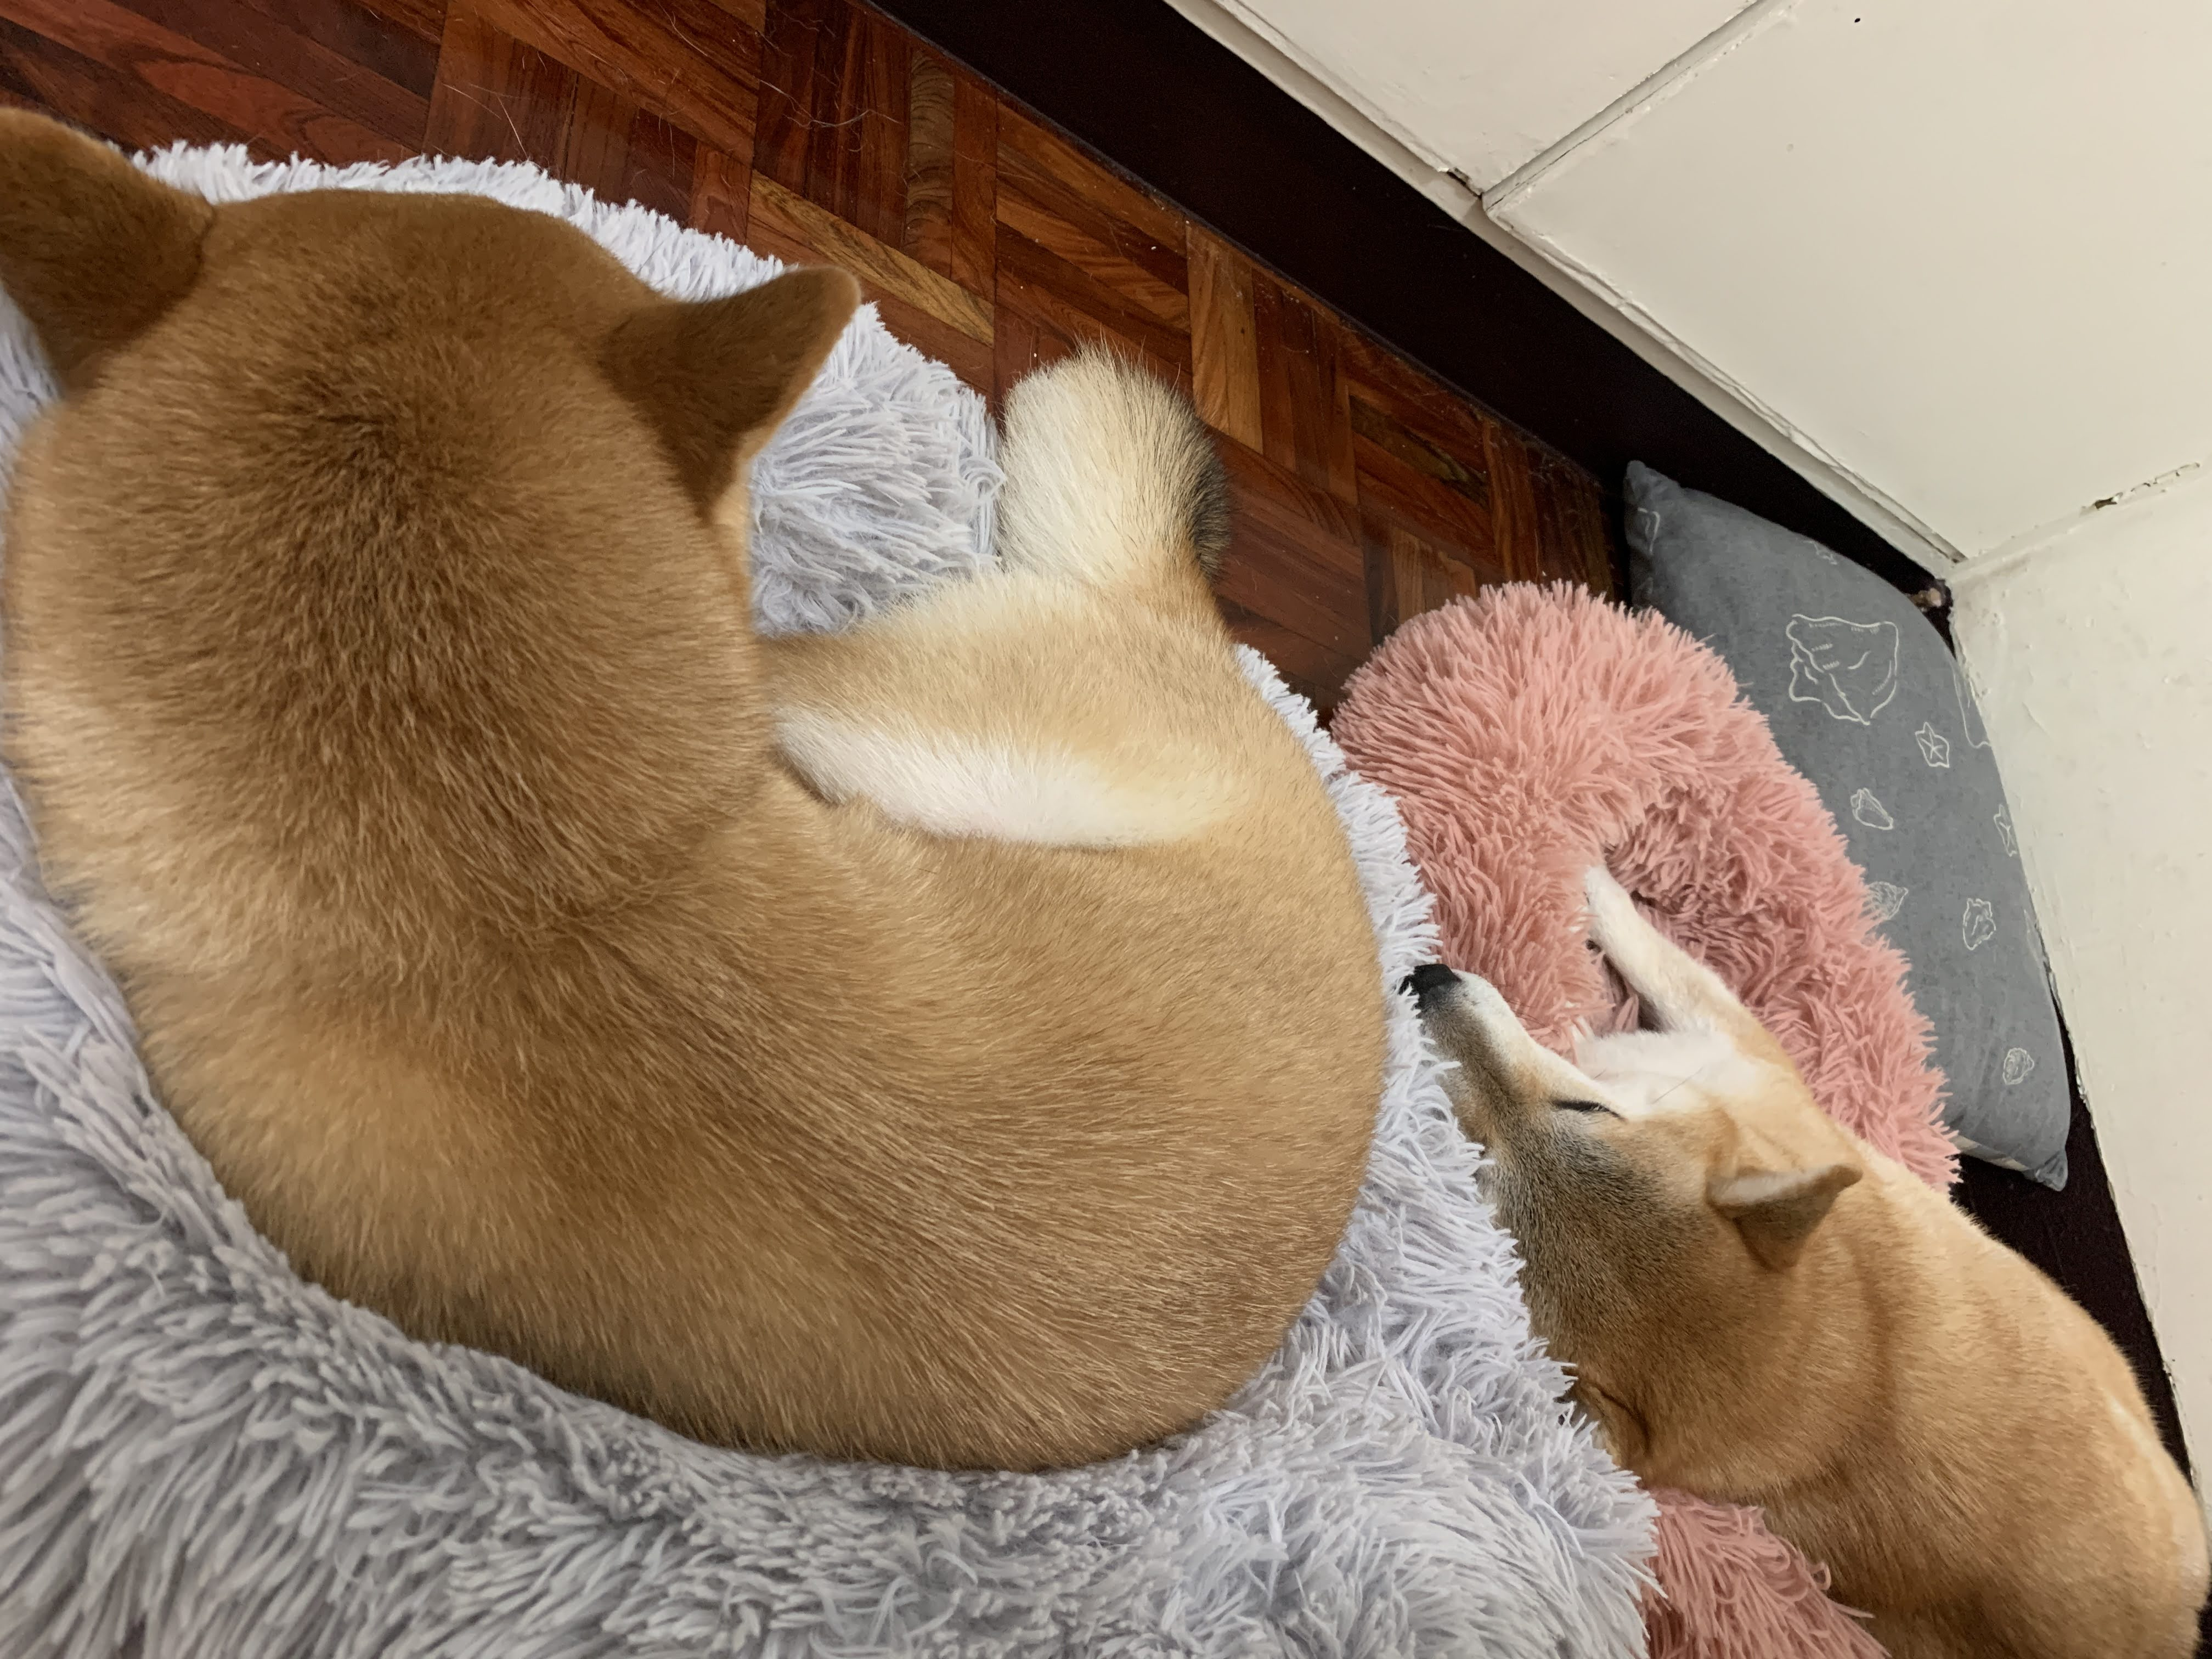Get down: (2, 105, 1411, 1485), (1404, 823, 2212, 1659)
